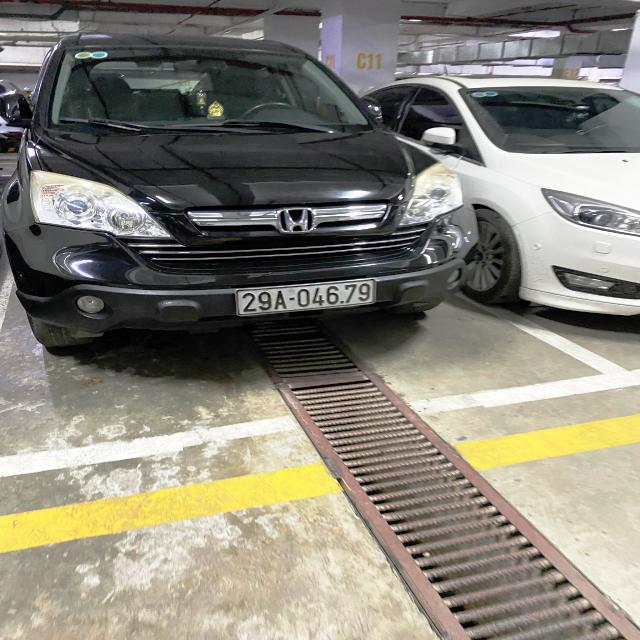license_plate: (233, 278, 380, 318)
